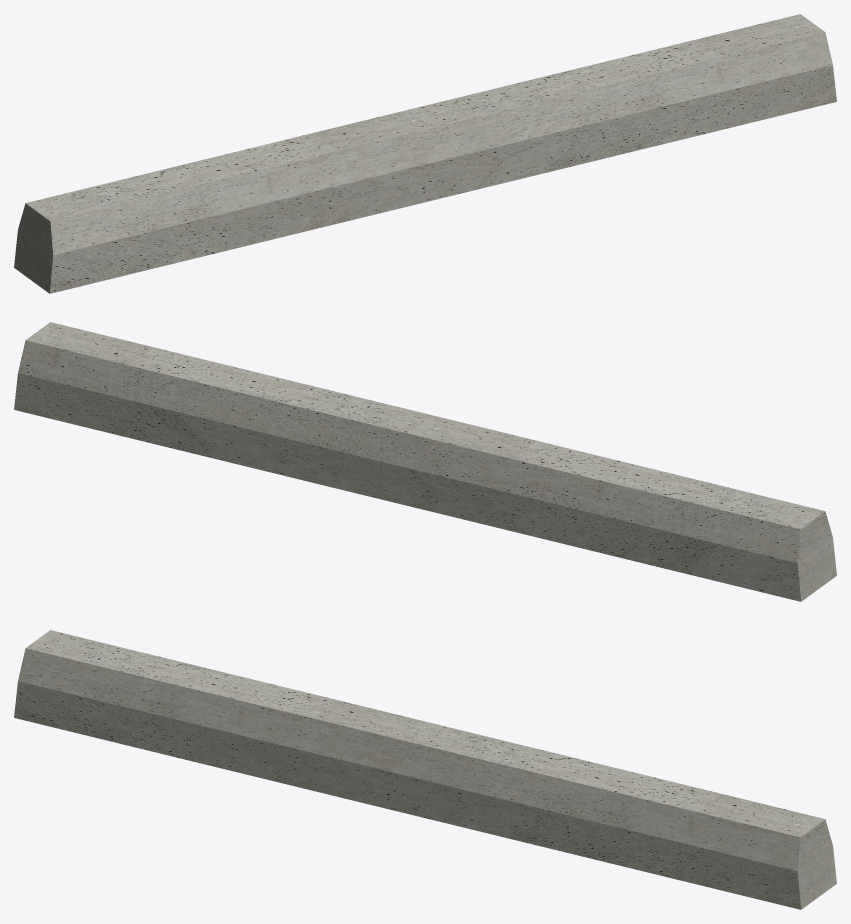
File: concrete barrier.fbx
The picture shows the model from 3 angles, top to bottom: view 1: azimuth 30°, elevation 25°; view 2: azimuth 150°, elevation 25°; view 3: azimuth 330°, elevation 25°; orthographic projection.
Visible parts, largest first — view 1: Cube; view 2: Cube; view 3: Cube.
Boxes of the visible parts, x1,y1,x2,y2 form: Cube: [14, 14, 836, 293]; Cube: [14, 322, 836, 601]; Cube: [14, 630, 836, 909].
Bounding box in the file's own units: 1417 × 115 × 112.
